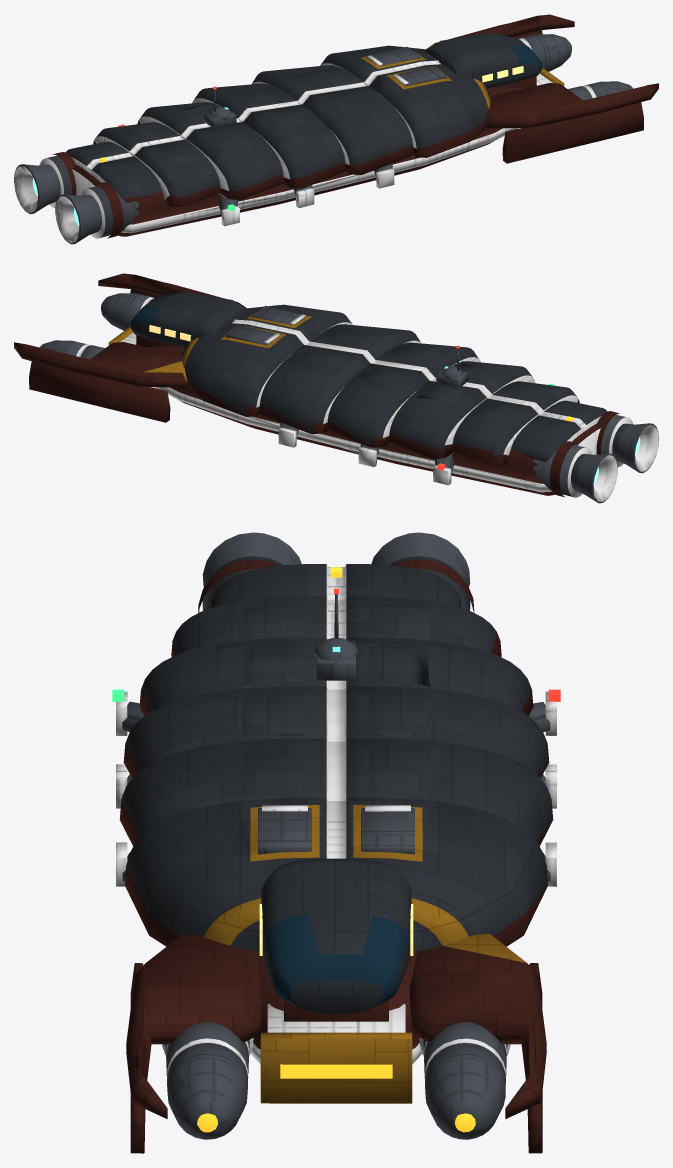
The model's file is ironback_production_v1_lod2.glb.
The picture shows the model from 3 angles, top to bottom: view 1: azimuth 30°, elevation 25°; view 2: azimuth 150°, elevation 25°; view 3: azimuth 270°, elevation 25°; orthographic projection. The views are drawn at different scales.
Parts seen in each view (by area): view 1: LOD0_Hull, LOD0_Armor, LOD0_MechanicalDark, LOD0_Mechanical, LOD0_HOOK_SECONDARY_HOPPER_Mechanical, LOD0_Warning, LOD0_HOOK_SENSOR_MAST_Mechanical, LOD0_CANOPY; view 2: LOD0_Hull, LOD0_Armor, LOD0_MechanicalDark, LOD0_Mechanical, LOD0_Warning, LOD0_HOOK_SECONDARY_HOPPER_Mechanical, LOD0_HOOK_SENSOR_MAST_Mechanical, LOD0_CANOPY; view 3: LOD0_Hull, LOD0_Armor, LOD0_Mechanical, LOD0_Warning, LOD0_MechanicalDark, LOD0_CANOPY, LOD0_HOOK_SECONDARY_HOPPER_Mechanical, LOD0_Beacon_Amber, LOD0_HOOK_SENSOR_MAST_Mechanical.
Boxes of the visible parts, left/top/right/bottom form: LOD0_Hull: left=65, top=33, right=539, bottom=198; LOD0_Armor: left=52, top=14, right=658, bottom=238; LOD0_MechanicalDark: left=14, top=38, right=596, bottom=242; LOD0_Mechanical: left=14, top=34, right=632, bottom=244; LOD0_HOOK_SECONDARY_HOPPER_Mechanical: left=366, top=46, right=446, bottom=86; LOD0_Warning: left=361, top=43, right=564, bottom=108; LOD0_HOOK_SENSOR_MAST_Mechanical: left=204, top=89, right=236, bottom=128; LOD0_CANOPY: left=490, top=33, right=542, bottom=73; LOD0_Hull: left=133, top=292, right=607, bottom=461; LOD0_Armor: left=14, top=273, right=619, bottom=497; LOD0_MechanicalDark: left=76, top=297, right=658, bottom=501; LOD0_Mechanical: left=40, top=293, right=658, bottom=503; LOD0_Warning: left=108, top=312, right=311, bottom=381; LOD0_HOOK_SECONDARY_HOPPER_Mechanical: left=226, top=305, right=306, bottom=345; LOD0_HOOK_SENSOR_MAST_Mechanical: left=436, top=348, right=468, bottom=387; LOD0_CANOPY: left=130, top=292, right=181, bottom=332; LOD0_Hull: left=121, top=564, right=553, bottom=1014; LOD0_Armor: left=119, top=559, right=552, bottom=1153; LOD0_Mechanical: left=122, top=532, right=550, bottom=1139; LOD0_Warning: left=204, top=805, right=526, bottom=1103; LOD0_MechanicalDark: left=116, top=565, right=556, bottom=1078; LOD0_CANOPY: left=265, top=914, right=407, bottom=1001; LOD0_HOOK_SECONDARY_HOPPER_Mechanical: left=258, top=808, right=414, bottom=854; LOD0_Beacon_Amber: left=197, top=567, right=475, bottom=1132; LOD0_HOOK_SENSOR_MAST_Mechanical: left=314, top=594, right=358, bottom=680.
Size of what is drawn, in the model's own units: 19.92 by 3.7 by 6.78.
Materials: 12 (5 with a texture image).
